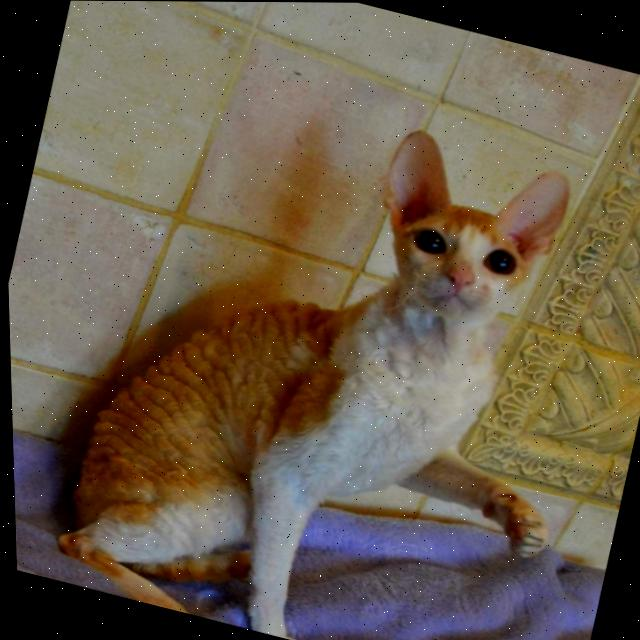Cornish Rex: (23, 54, 640, 640)
